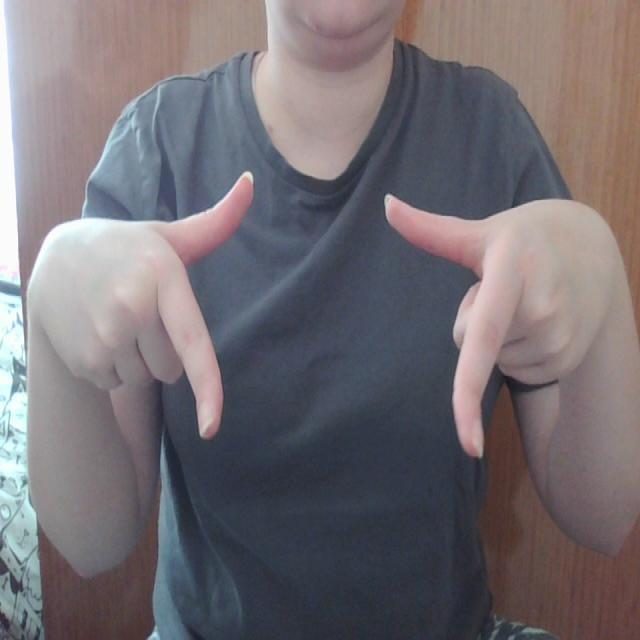Nerede: (150, 165, 527, 466)
